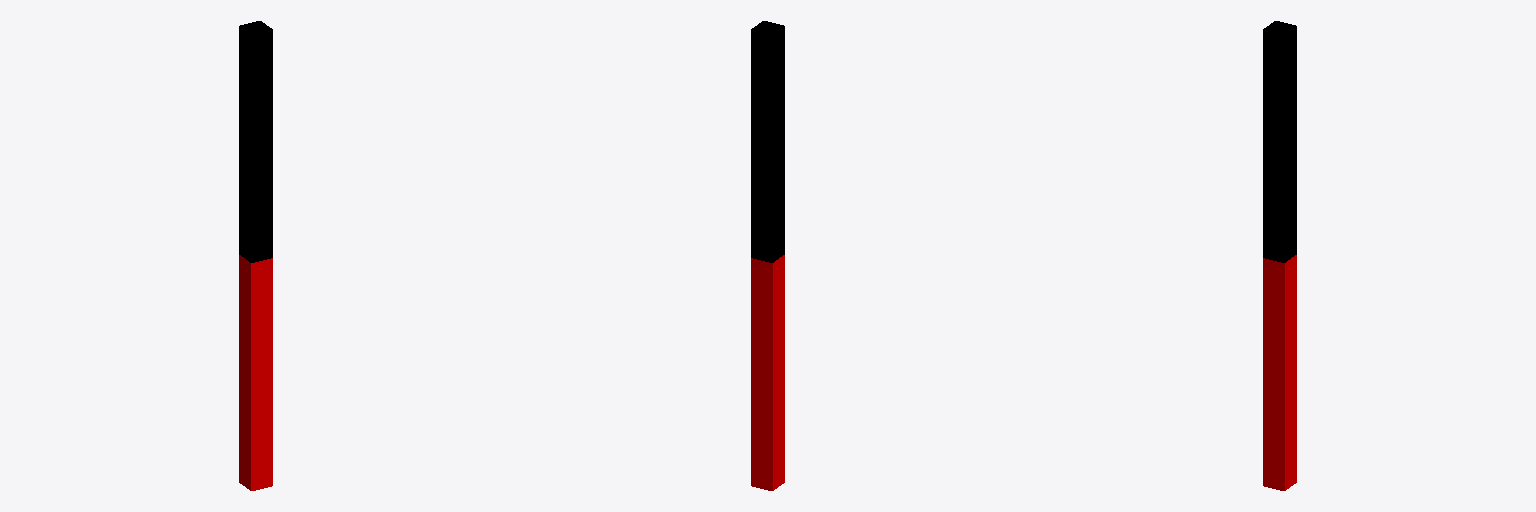
The robot description file, URDF, robot "Fourbar":
<?xml version="1.0"?>

<robot name="Fourbar">
	<link name="base_link">
	</link>

  <link name="link1">
    <inertial>
      <origin xyz="0 0 -0.5" rpy="0 0. 0." />
      <mass value="1" />
      <inertia ixx=".0841667" ixy="0" ixz="0" iyy=".0841667" iyz="0" izz=".00166667" />
    </inertial>
    <visual>
      <origin xyz="0 0 -0.5" rpy="0 0. 0." />
      <geometry>
         <!-- <cylinder length="1" radius=".05" /> -->
         <box size=".1 .1 1" />
      </geometry>
      <material name="black">
	       <color rgba="0 0 0 1" />
      </material>
    </visual>
  </link>

  <link name="link2">
    <inertial>
      <origin xyz="0 0 -0.5" rpy="0 0. 0." />
      <mass value="1" />
      <inertia ixx=".0841667" ixy="0" ixz="0" iyy=".0841667" iyz="0" izz=".00166667" />
    </inertial>
    <visual>
      <origin xyz="0 0 -0.5" rpy="0 0. 0." />
      <geometry>
         <box size=".1 .1 1" />
      </geometry>
      <material name="red">
	       <color rgba="1 0 0 1" />
      </material>
    </visual>
  </link>

  <link name="link3">
    <inertial>
      <origin xyz="0 0 -0.5" rpy="0 0. 0." />
      <mass value="1" />
      <inertia ixx=".0841667" ixy="0" ixz="0" iyy=".0841667" iyz="0" izz=".00166667" />
    </inertial>
    <visual>
      <origin xyz="0 0 -0.5" rpy="0 0. 0." />
      <geometry>
         <!-- <cylinder length="1" radius=".05" /> -->
         <box size=".1 .1 1" />
      </geometry>
      <material name="green">
	       <color rgba="0 1 0 1" />
      </material>
    </visual>
  </link>

  <link name="link4">
    <inertial>
      <origin xyz="0 0 -0.5" rpy="0 0. 0." />
      <mass value="1" />
      <inertia ixx=".0841667" ixy="0" ixz="0" iyy=".0841667" iyz="0" izz=".00166667" />
    </inertial>
    <visual>
      <origin xyz="0 0 -0.5" rpy="0 0. 0." />
      <geometry>
         <box size=".1 .1 1" />
      </geometry>
      <material name="blue">
	       <color rgba="0 0 1 1" />
      </material>
    </visual>
  </link>



	<joint name="jointb1" type="continuous">
		<parent link="base_link" />
		<child link="link1" />
		<origin rpy="0.0 0 0" xyz="0 0 0" />
		<axis xyz="1 0 0" />
	</joint>

  <joint name="joint12" type="continuous">
		<parent link="link1" />
		<child link="link2" />
		<origin rpy="0.0 0 0" xyz="0 0 -1" />
		<axis xyz="1 0 0" />
	</joint>

  <joint name="jointb3" type="continuous">
		<parent link="base_link" />
		<child link="link3" />
		<origin rpy="-0.0 0 0" xyz="0 0 0" />
		<axis xyz="1 0 0" />
	</joint>

  <joint name="joint34" type="continuous">
		<parent link="link3" />
		<child link="link4" />
		<origin rpy="-0.0 0 0" xyz="0 0 -1" />
		<axis xyz="1 0 0" />
	</joint>

	<loop_joint name="joint24" type="continuous">
    <axis xyz="1 0 0"/>
		<!-- x=[xyz] & q=[rpy] describe tranformation from the parent frame to joint frame  -->
		<!-- parent joint frame -> link1's frame -> joint frame -->
    <link1 link="link2" rpy="0 0 0" xyz="0 0 -1.0"/>
		<!-- x=[xyz] & q=[rpy] describe tranformation from the parent frame to joint frame  -->
		<!-- parent joint frame -> link2's frame -> joint frame -->
    <link2 link="link4" rpy="0 0 0" xyz="0 0 -1.0"/>
	</loop_joint>
</robot>

--- Facts derived from the render (not from the file) ---
Views: 3 orthographic renders of the robot side by side, from view 1: azimuth 30°, elevation 25°; view 2: azimuth 150°, elevation 25°; view 3: azimuth 330°, elevation 25°.
Robot: Fourbar — 5 links, 4 joints (4 continuous); root link base_link; default pose: every joint at zero.
Links seen in each view (by area): view 1: link1, link2; view 2: link1, link2; view 3: link1, link2.
Boxes of the visible links, x1,y1,x2,y2 form: link1: (239,21,272,262); link2: (239,255,272,490); link1: (751,21,784,262); link2: (751,255,784,490); link1: (1263,21,1296,262); link2: (1263,255,1296,490).
Bounding box of the posed robot: 0.1 × 0.1 × 2 m (x, y, z).
Geometry: primitives only (box / cylinder / sphere), no mesh files.
